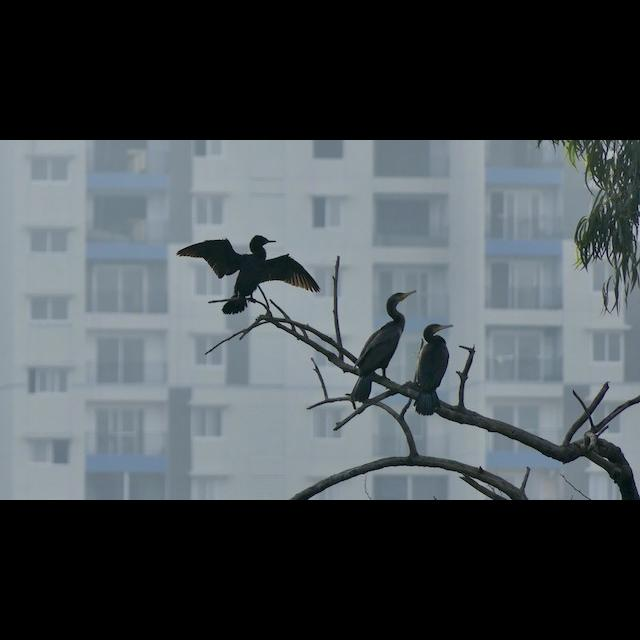cormorant: (176, 233, 320, 314), (348, 286, 419, 400), (409, 319, 457, 416)
